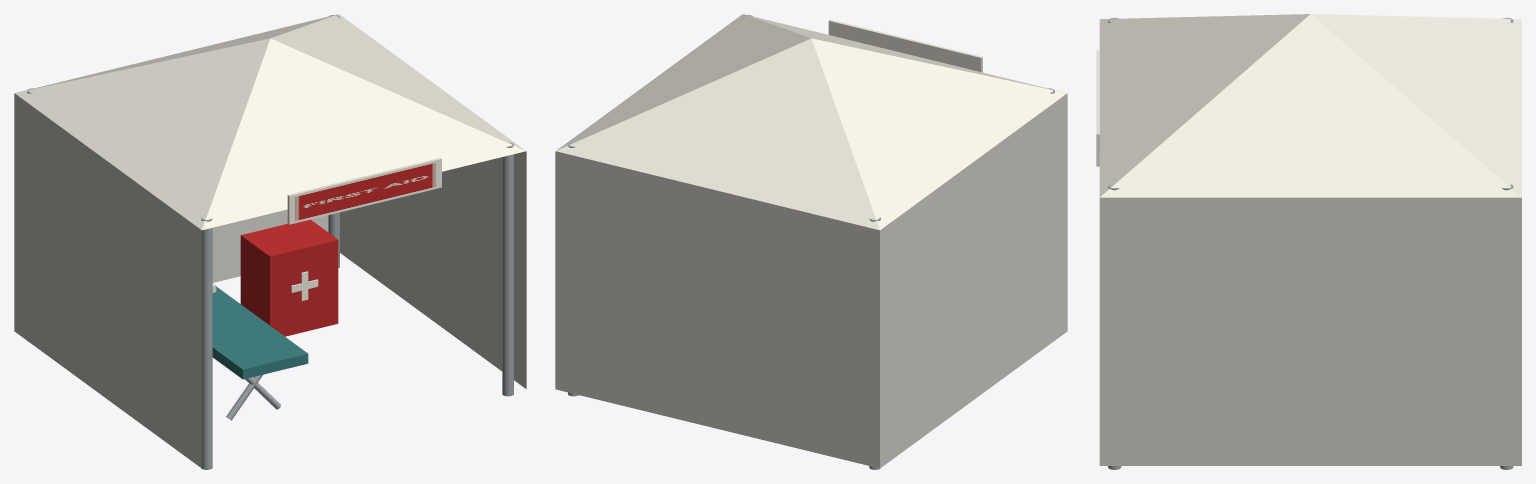
Rendered from scendance-plan-first-aid-point.glb.
3 renders of one model, left to right at view 1: azimuth 30°, elevation 25°; view 2: azimuth 150°, elevation 25°; view 3: azimuth 270°, elevation 25°, orthographic. The views are drawn at different scales.
Bounding box in the file's own units: 3.08 × 3 × 3.11.
Materials: 6 (1 with a texture image).
